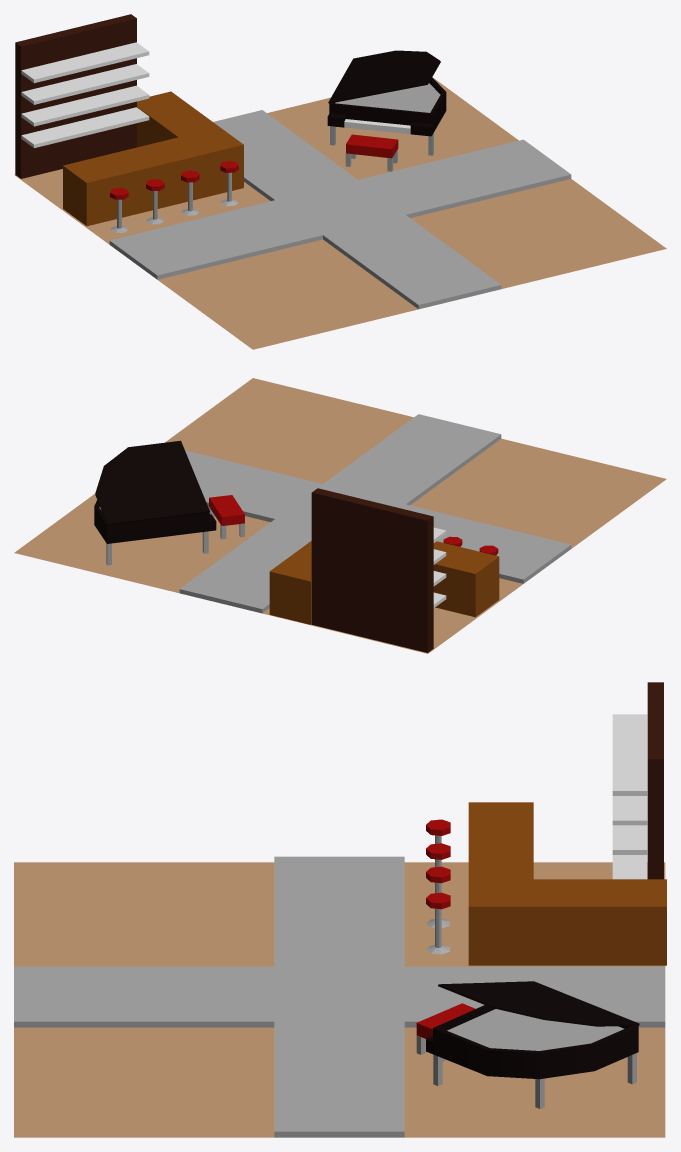
Rendered from Room 2 - Bar Draft - New.fbx.
3 renders of one model, top to bottom at view 1: azimuth 30°, elevation 25°; view 2: azimuth 150°, elevation 25°; view 3: azimuth 270°, elevation 25°, orthographic. The views are drawn at different scales.
Visible parts, largest first — view 1: Floor, Bar_Bench, pCube2, pCube8, pCube13, pCube5, pCube3, pCube4, pCube6, pCube7; view 2: Floor, pCube2, pCube13, Bar_Bench, pCube8, pCube7; view 3: Floor, Bar_Bench, pCube8, pCube13, pCube2, pCube6, pCube4, pCube5, pCube3, Stool__4, pCube7.
Boxes of the visible parts, x1,y1,x2,y2 form: Floor: (14, 77, 666, 349); Bar_Bench: (63, 91, 243, 226); pCube2: (15, 14, 136, 178); pCube8: (327, 77, 446, 136); pCube13: (328, 50, 440, 103); pCube5: (21, 64, 149, 104); pCube3: (21, 107, 149, 148); pCube4: (21, 85, 149, 126); pCube6: (21, 42, 149, 83); pCube7: (346, 134, 398, 158); Floor: (14, 378, 666, 653); pCube2: (311, 488, 433, 652); pCube13: (95, 440, 209, 524); Bar_Bench: (269, 541, 499, 624); pCube8: (94, 500, 216, 543); pCube7: (209, 495, 244, 525); Floor: (14, 856, 665, 1137); Bar_Bench: (468, 802, 666, 965); pCube8: (426, 1005, 638, 1079); pCube13: (438, 981, 639, 1026); pCube2: (647, 682, 663, 879); pCube6: (612, 714, 647, 795); pCube4: (612, 825, 647, 854); pCube5: (612, 796, 647, 825); pCube3: (612, 855, 647, 879); Stool__4: (426, 892, 450, 954); pCube7: (416, 1003, 475, 1038).
Size of the model in its own units: 10 by 3.3 by 10.03.
